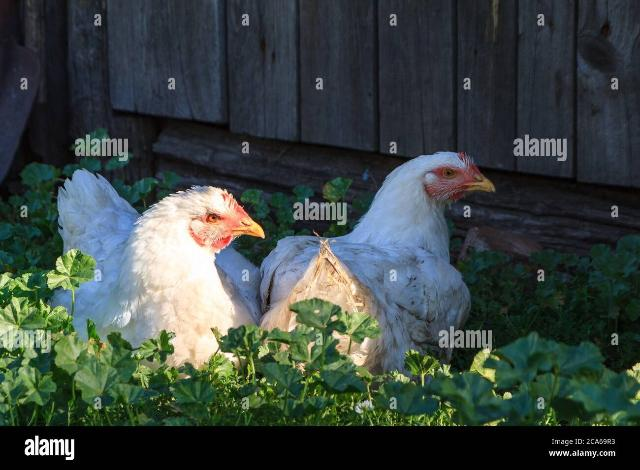Chicken: (258, 151, 494, 373), (55, 170, 265, 368)
